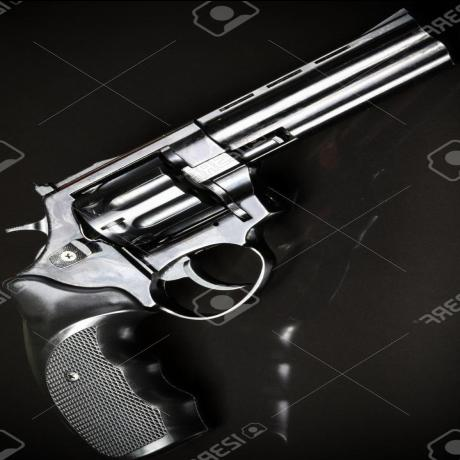weapon: (4, 6, 460, 459)
